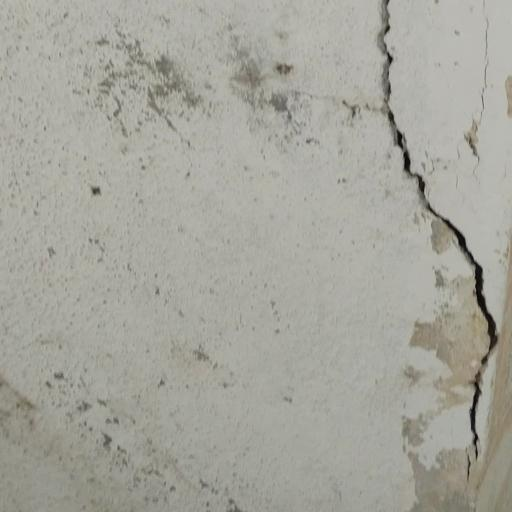major_crack: (359, 0, 503, 476)
